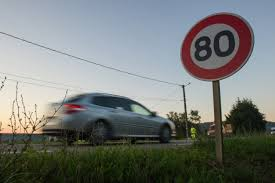Speed_limit_80km: (179, 12, 253, 82)
